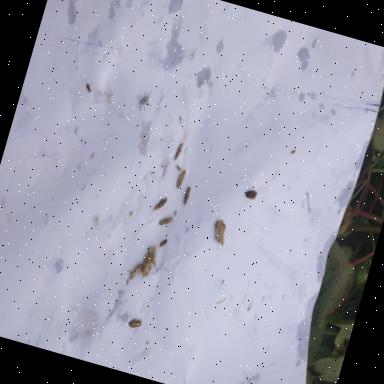pbw: (150, 194, 169, 217), (127, 260, 144, 285), (210, 226, 225, 250), (158, 213, 176, 230), (174, 168, 186, 192), (182, 184, 193, 208), (172, 140, 184, 162), (128, 316, 144, 330), (157, 236, 169, 252), (245, 188, 259, 200), (218, 231, 228, 247)
